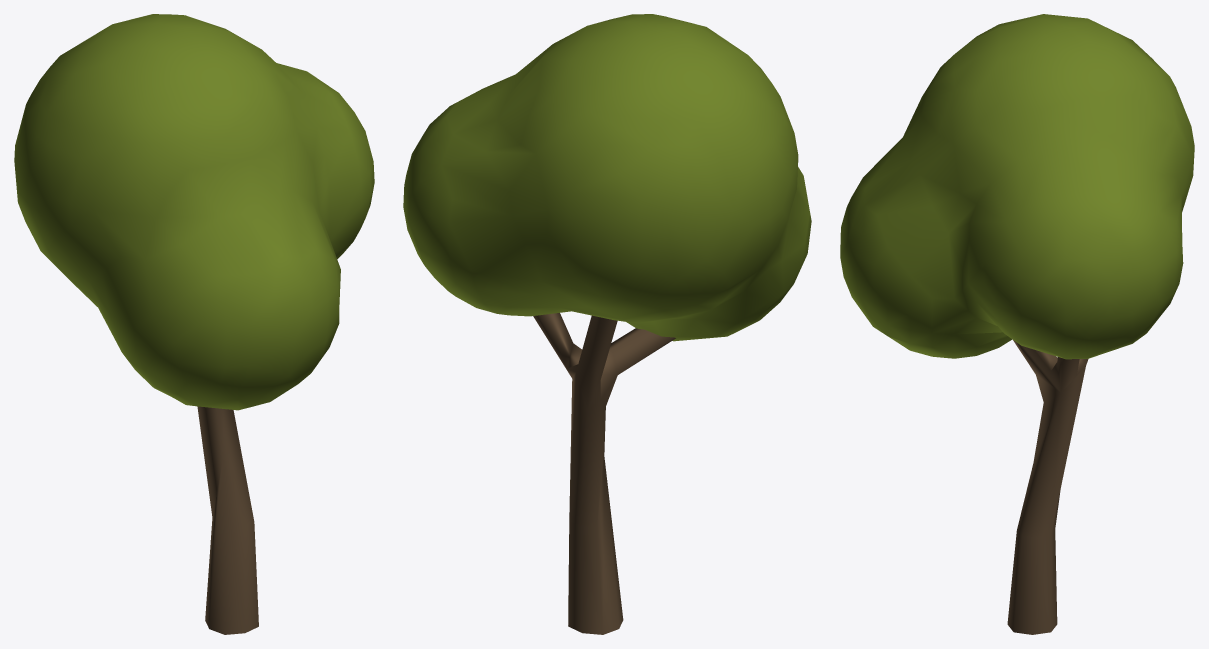
File: tree-5.glb
The picture shows the model from 3 angles, left to right: view 1: azimuth 30°, elevation 25°; view 2: azimuth 150°, elevation 25°; view 3: azimuth 270°, elevation 25°; orthographic projection. The views are drawn at different scales.
Parts seen in each view (by area): view 1: Tree_1; view 2: Tree_1; view 3: Tree_1.
Boxes of the visible parts, x1,y1,x2,y2 form: Tree_1: [14, 14, 374, 634]; Tree_1: [403, 14, 811, 634]; Tree_1: [840, 14, 1194, 634].
Bounding box in the file's own units: 3.44 × 5.86 × 3.3.
